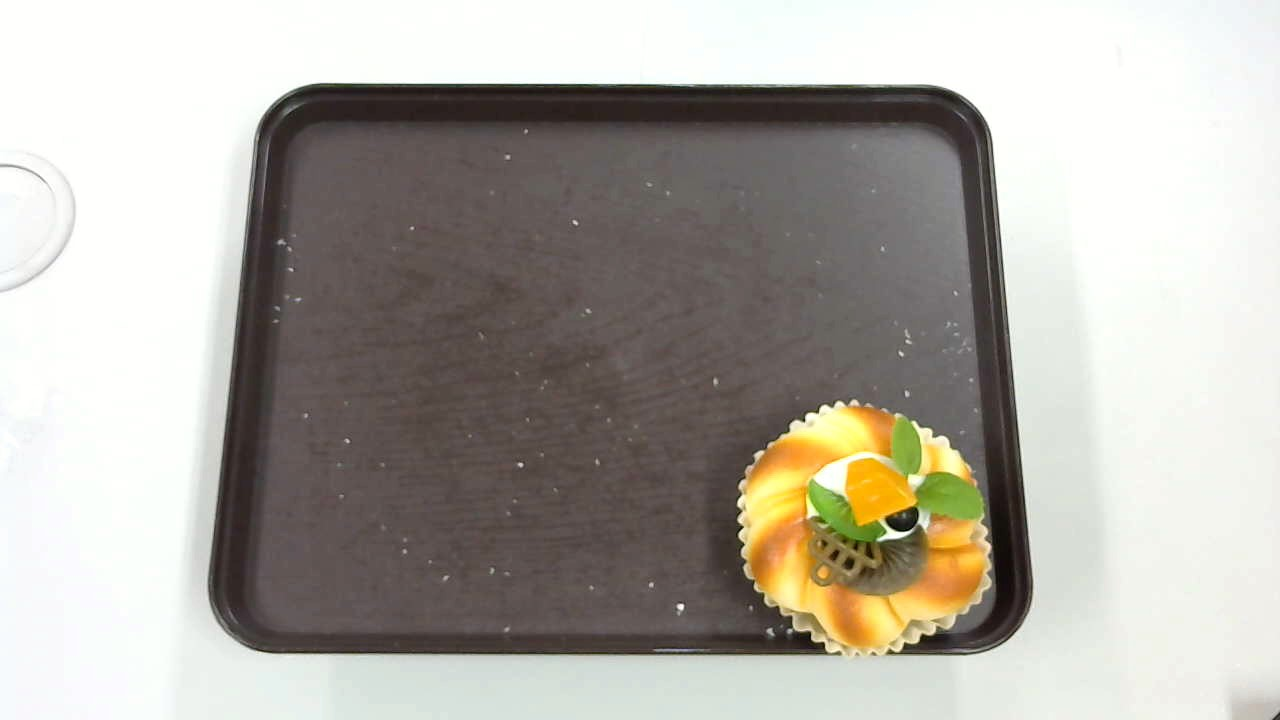fruit tart: (736, 399, 993, 656)
